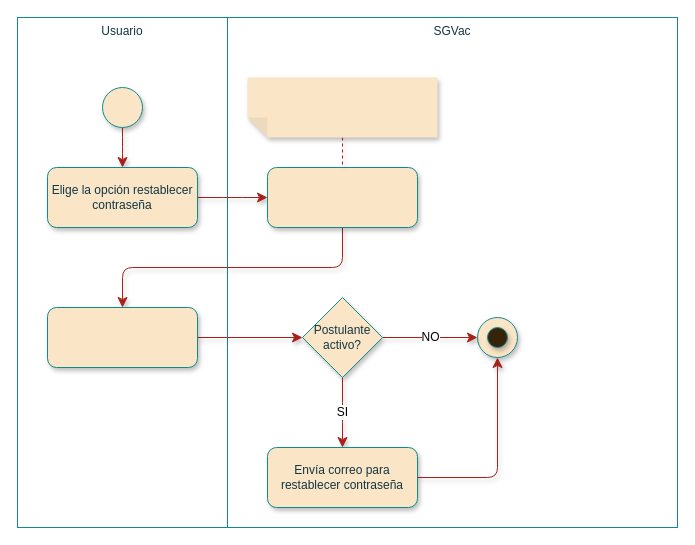
This 695x545 diagram has some shape labels left out. Here are the shapes that lost their labels. From the top down, the centre of each, then its label:
At (x=343, y=108): "Correo electrónico".
At (x=343, y=198): "Muestra formulario".
At (x=123, y=338): "Ingresa correo".
